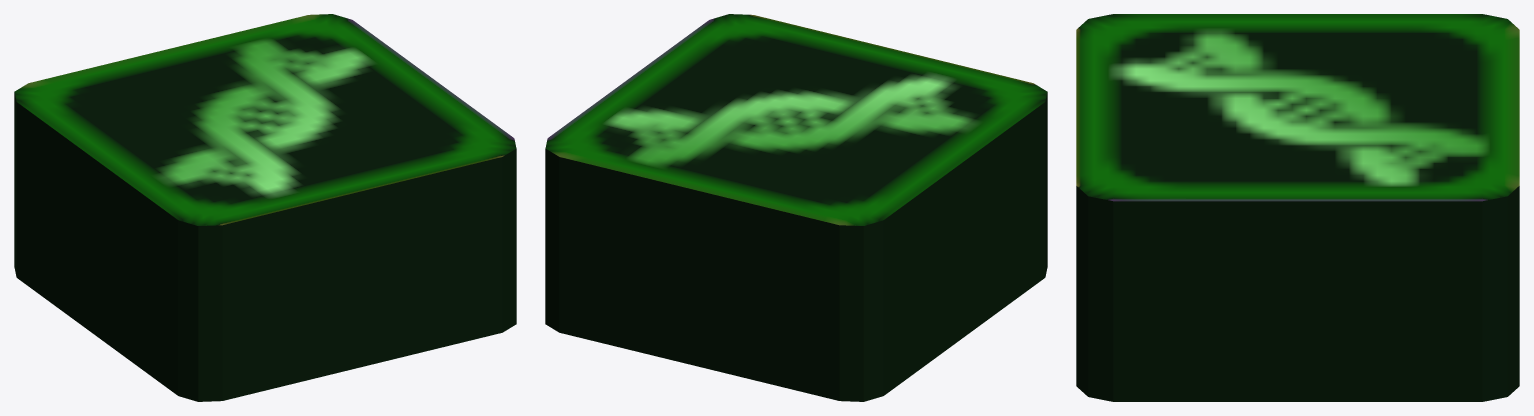
The model's file is icon_xvi.obj.
The picture shows the model from 3 angles, left to right: view 1: azimuth 30°, elevation 25°; view 2: azimuth 150°, elevation 25°; view 3: azimuth 270°, elevation 25°; orthographic projection. The views are drawn at different scales.
Visible parts, largest first — view 1: Icon-XVI.001_Plane.017; view 2: Icon-XVI.001_Plane.017; view 3: Icon-XVI.001_Plane.017.
Part boxes in pixels (x1,y1,x2,y2): Icon-XVI.001_Plane.017: [14, 14, 516, 401]; Icon-XVI.001_Plane.017: [545, 14, 1047, 401]; Icon-XVI.001_Plane.017: [1076, 14, 1519, 401].
Bounding box in the file's own units: 2 × 1 × 2.
Materials: 2 (2 with a texture image).
